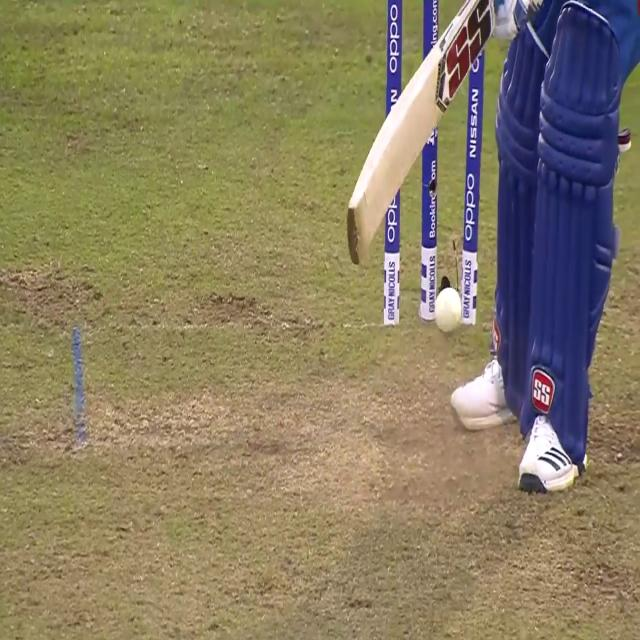ball: (436, 289, 463, 330)
